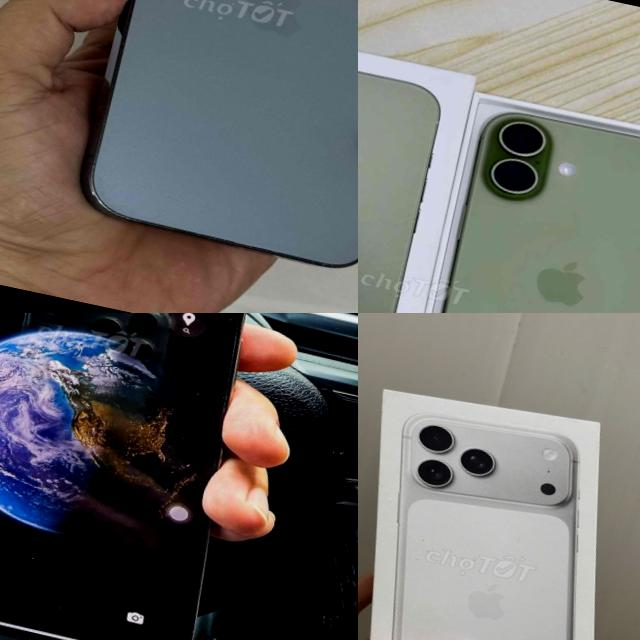gen_12_13: (76, 0, 358, 285)
gen_16: (0, 313, 244, 640)
gen_17: (358, 393, 639, 640), (442, 113, 640, 313)
